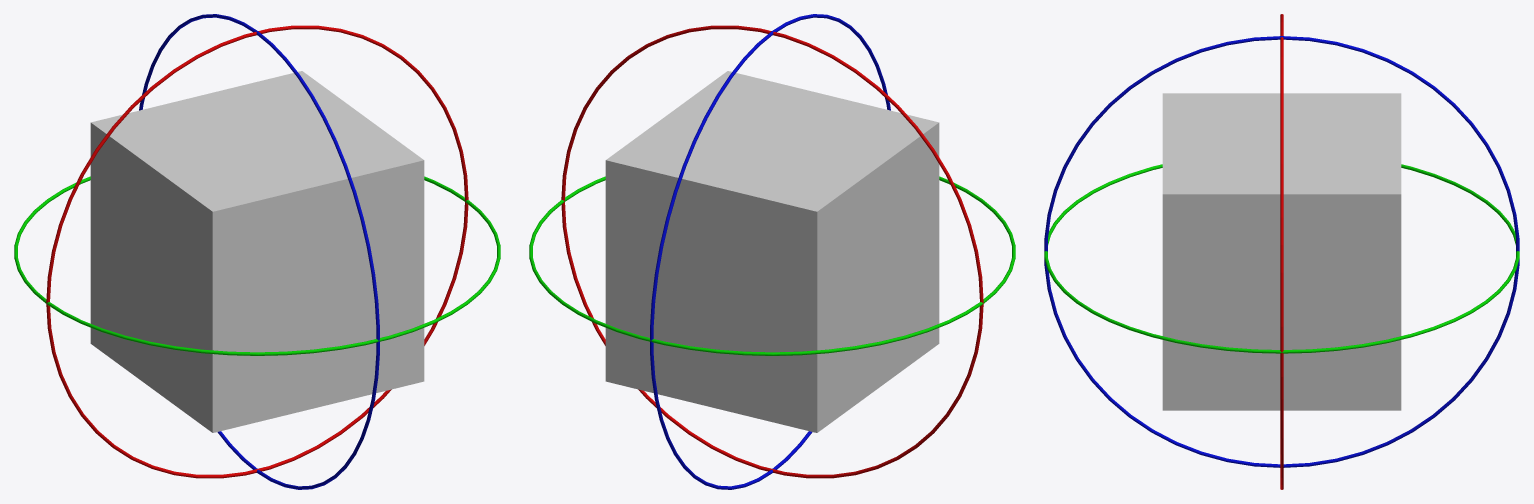
File: RotateCube.fbx
3 renders of one model, left to right at view 1: azimuth 30°, elevation 25°; view 2: azimuth 150°, elevation 25°; view 3: azimuth 270°, elevation 25°, orthographic. The views are drawn at different scales.
Visible parts, largest first — view 1: Cube; view 2: Cube; view 3: Cube.
Boxes of the visible parts, left/top/right/bottom form: Cube: left=14, top=14, right=500, bottom=489; Cube: left=529, top=14, right=1015, bottom=489; Cube: left=1044, top=14, right=1519, bottom=489.
Bounding box in the file's own units: 399 × 399 × 398.
